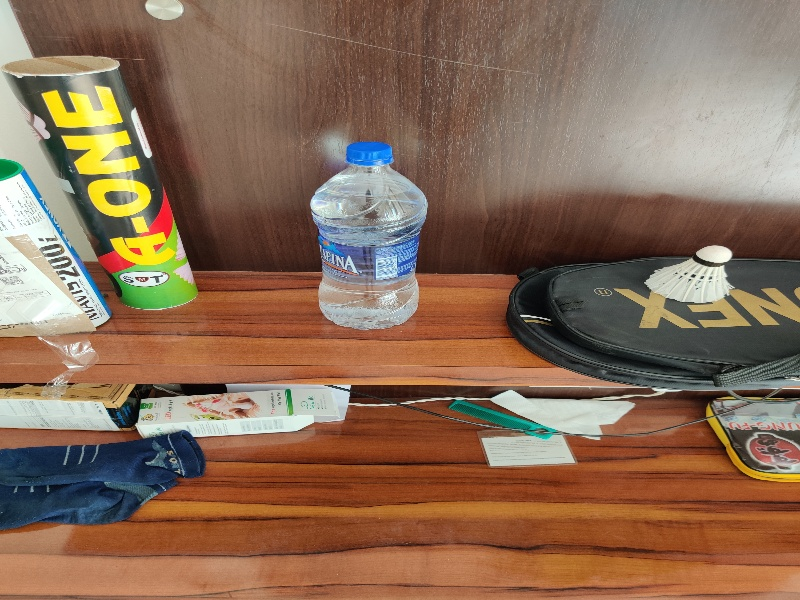bottle: (296, 134, 431, 332)
